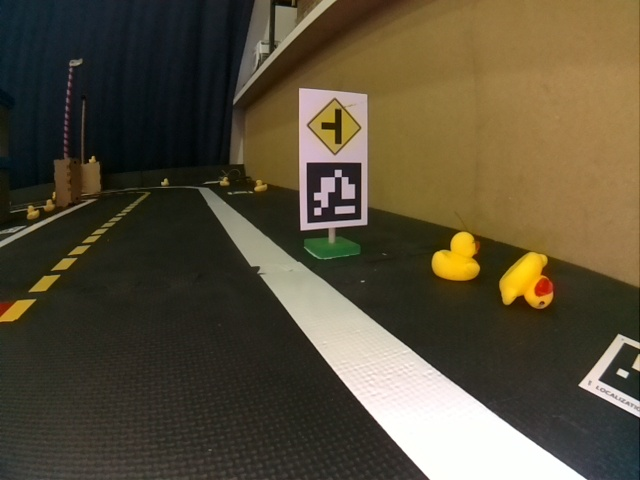Duckie: (501, 253, 554, 310), (432, 234, 481, 279), (27, 206, 37, 216), (255, 180, 265, 189), (220, 177, 229, 186), (161, 178, 169, 187), (89, 156, 97, 164), (45, 201, 53, 208)
Intersection sign: (304, 94, 365, 156)
QR code: (578, 336, 639, 404), (305, 168, 363, 225)
